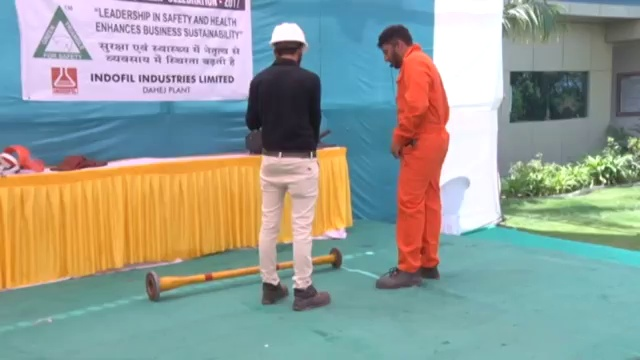helmet: (267, 21, 308, 51)
helmet_off: (373, 24, 420, 71)
helmet_on: (264, 20, 309, 65)
person: (242, 19, 332, 311), (372, 21, 452, 289)
